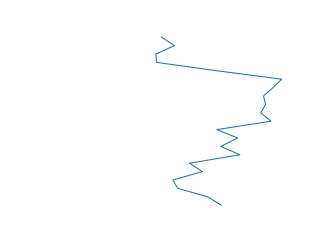floodPlain: (153, 35, 283, 208)
